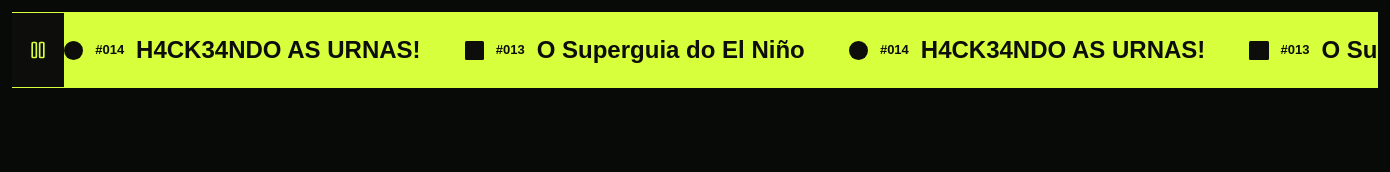
<Ticker /> › tem botão de pausa (WCAG 2.2.2) que para e retoma o letreiro
Click the button named "Pausar letreiro de últimos posts": click(38, 50) [12, 13, 64, 87]
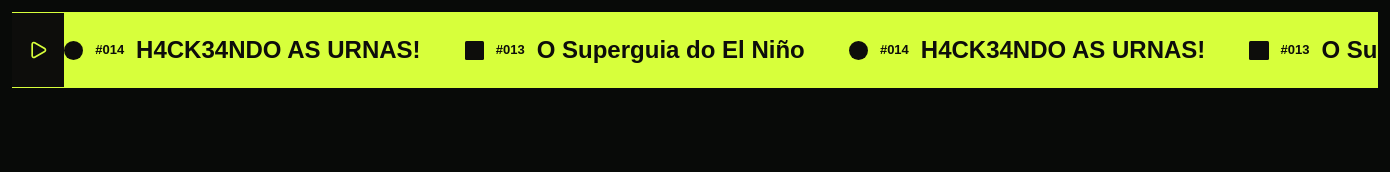
Now the button named "Pausar letreiro de últimos posts" is pressed
Click the button named "Pausar letreiro de últimos posts": click(38, 50) [12, 13, 64, 87]
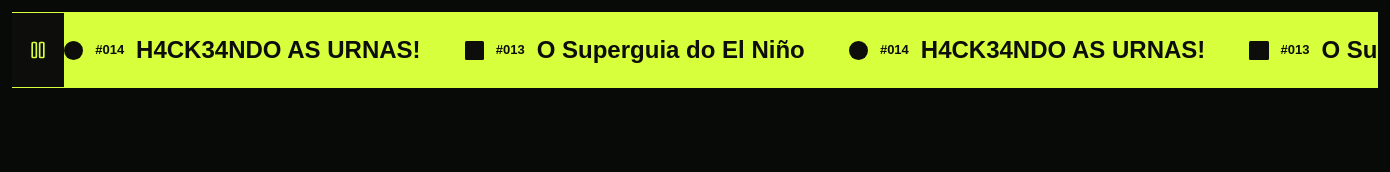
Now the button named "Pausar letreiro de últimos posts" is not pressed, box [12, 13, 64, 87]
